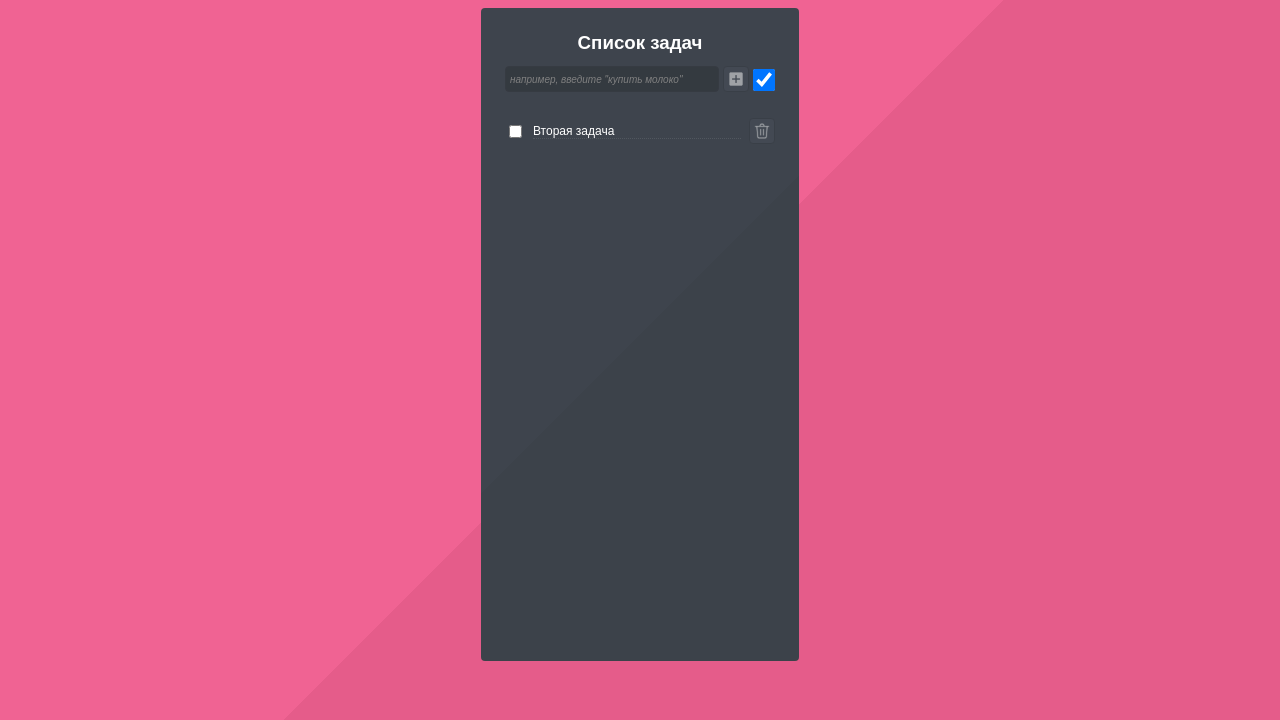
Scenario: список задач › с выключенным фильтром
expect the number of list items is 1: met, box [505,118,775,144]
What coordinates should you click on to do the following:
click the checkbox with alt text "фильтровать задачу"
I would click on:
 (764, 80)
Its box is [753,66,775,94].
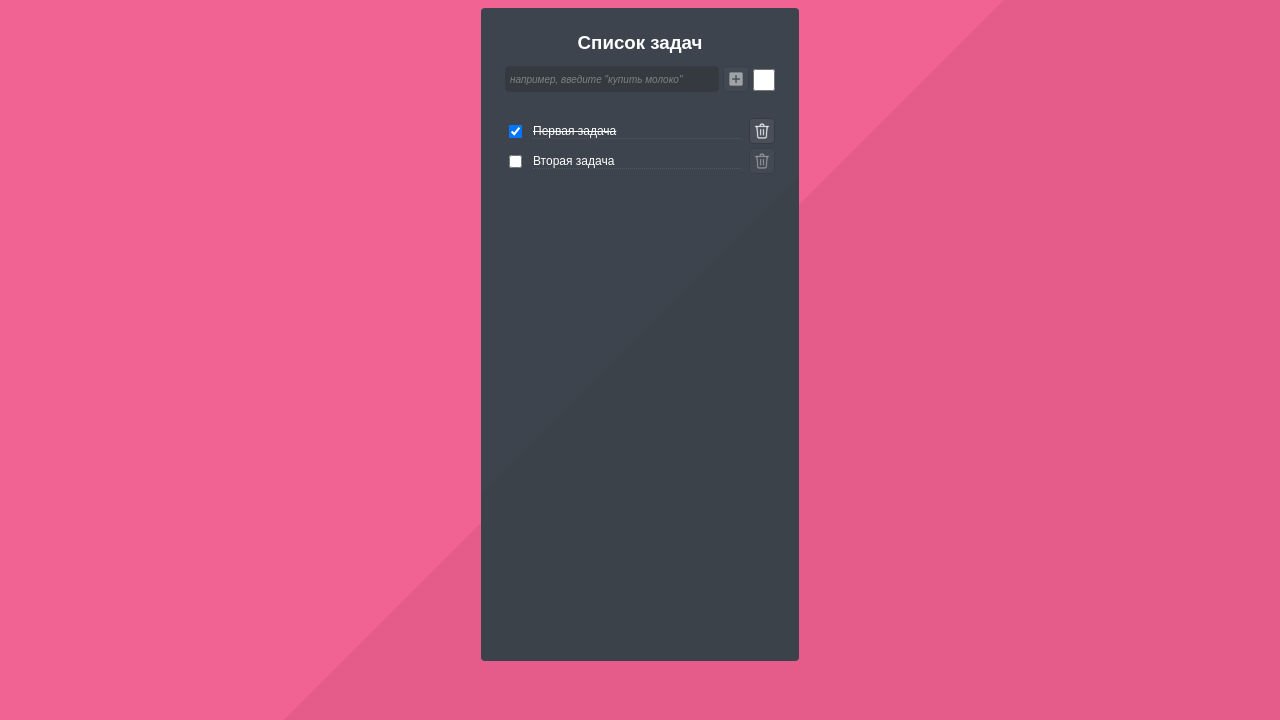
expect the checkbox with alt text "фильтровать задачу" is not checked: met, box [753,66,775,94]
expect the number of list items is 2: met, box [505,118,775,144]; [505,148,775,174]
expect the checkbox labelled "Первая задача" is checked: met, box [509,124,522,138]
